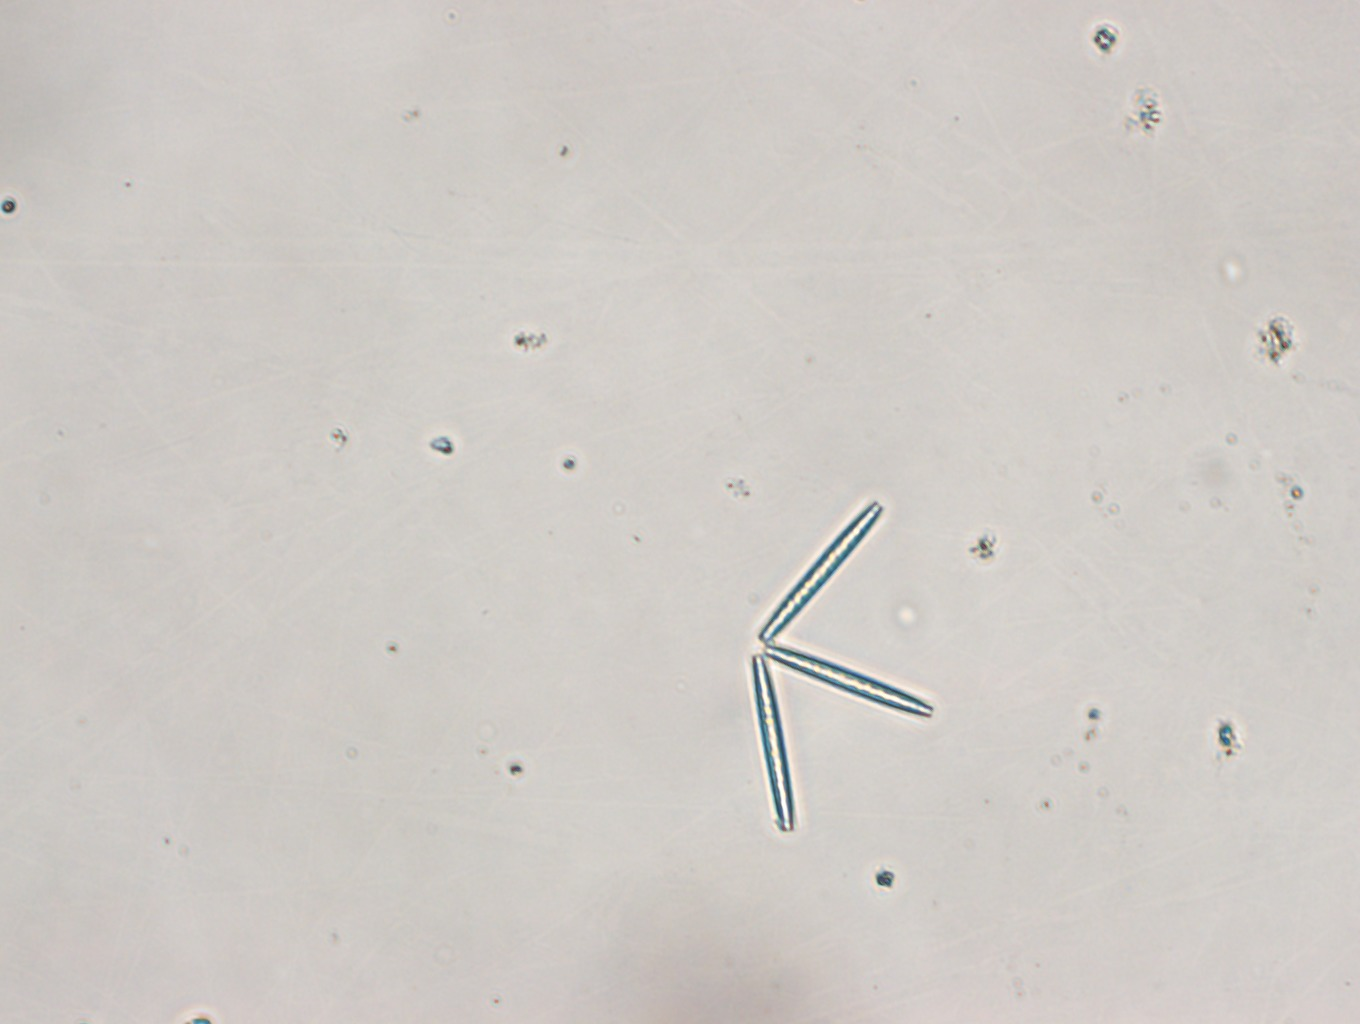thalassionema nitzschioides: (745, 496, 940, 842)
